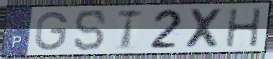2: (147, 7, 186, 52)
G: (33, 10, 70, 52)
H: (225, 6, 264, 49)
S: (73, 8, 109, 53)
T: (115, 8, 145, 51)
X: (184, 7, 226, 50)
